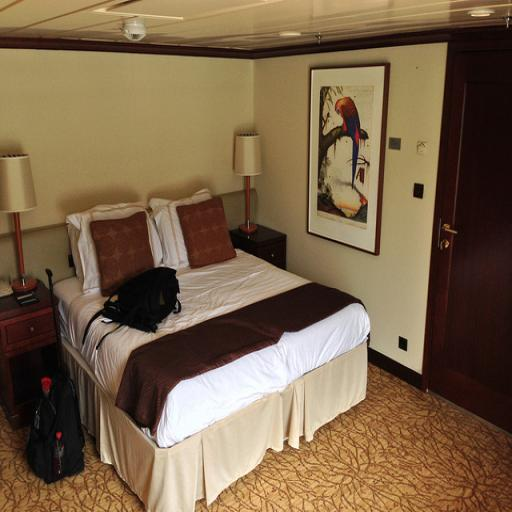bed: (33, 166, 444, 512)
